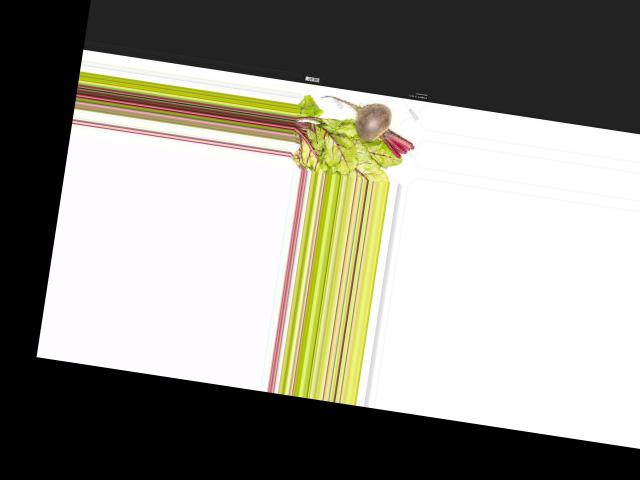beet: (314, 94, 420, 160)
